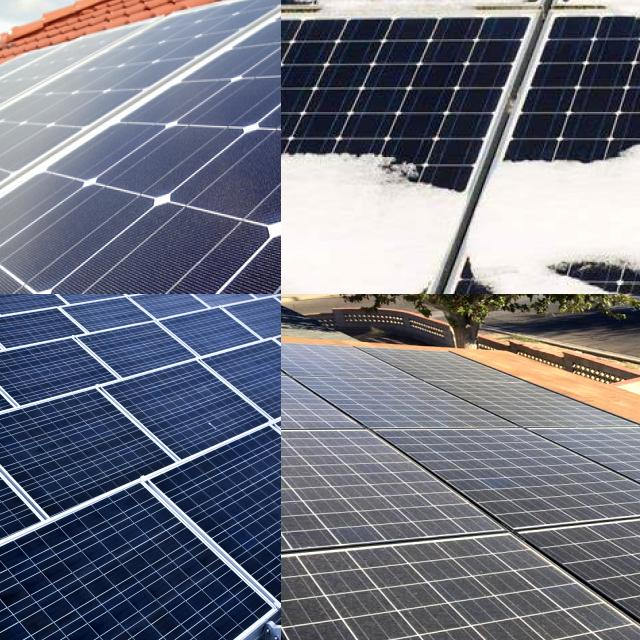crack: (0, 482, 250, 640), (0, 416, 155, 617), (131, 433, 281, 609), (0, 389, 170, 540), (103, 356, 263, 464), (0, 379, 73, 546), (0, 343, 128, 429), (0, 368, 101, 468), (78, 321, 195, 392), (201, 330, 281, 432), (154, 294, 265, 367), (0, 313, 104, 358), (0, 345, 84, 389), (0, 321, 70, 371), (0, 294, 84, 326), (224, 298, 281, 342), (48, 294, 124, 317), (75, 306, 76, 312)
dust: (7, 41, 195, 118), (322, 573, 550, 623), (281, 435, 347, 553), (0, 130, 43, 289), (376, 478, 466, 549)
panel: (281, 135, 474, 212), (477, 119, 640, 208), (413, 0, 545, 45), (539, 247, 640, 294), (281, 236, 359, 294), (281, 0, 391, 37), (281, 78, 338, 148), (281, 0, 372, 43), (572, 0, 640, 54), (390, 266, 506, 294), (281, 175, 316, 264), (281, 32, 320, 89), (281, 255, 310, 294)
